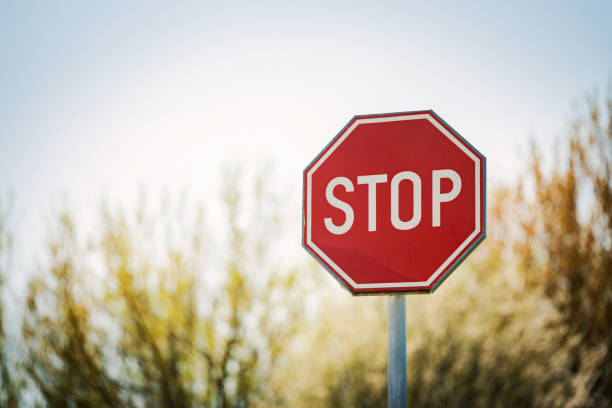StopSign: (301, 109, 487, 295)
